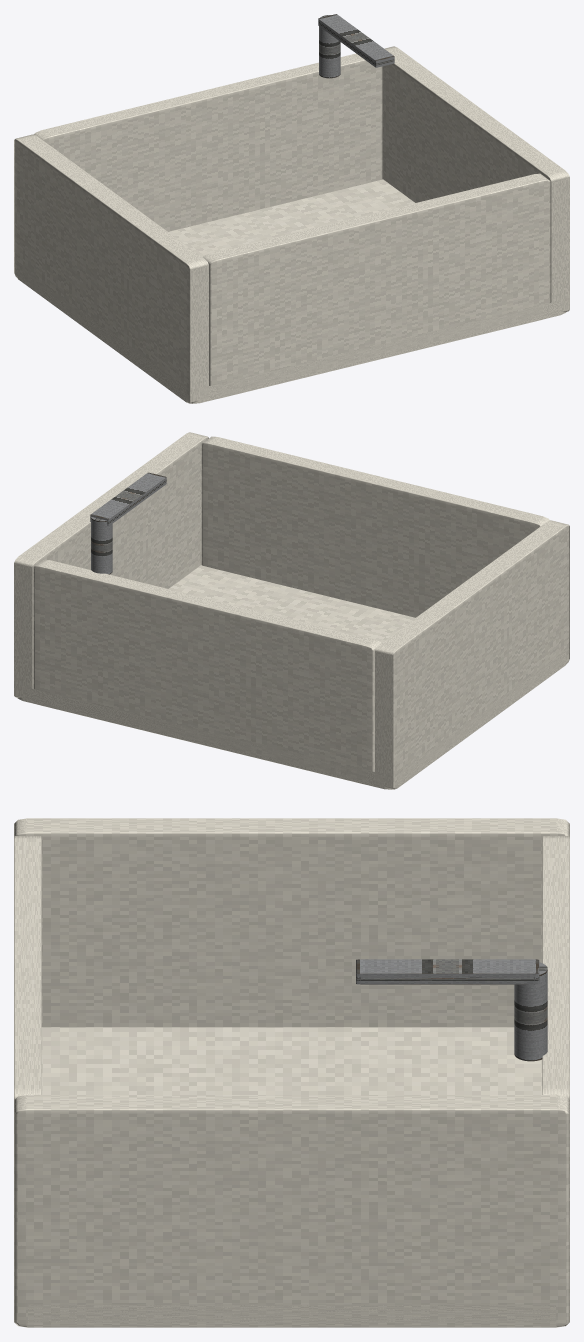
File: basin.glb
The picture shows the model from 3 angles, top to bottom: view 1: azimuth 30°, elevation 25°; view 2: azimuth 150°, elevation 25°; view 3: azimuth 270°, elevation 25°; orthographic projection. The views are drawn at different scales.
Parts seen in each view (by area): view 1: edge (×2), side (×2), bottom, spout, spout-post; view 2: edge (×2), side (×2), bottom, spout, spout-post; view 3: side (×2), bottom, edge (×2), spout, spout-post.
Part boxes in pixels (x1=…): edge (×2): x1=34, y1=53, x2=551, y2=398; side (×2): x1=14, y1=46, x2=569, y2=403; bottom: x1=18, y1=179, x2=566, y2=403; spout: x1=318, y1=14, x2=394, y2=67; spout-post: x1=319, y1=15, x2=340, y2=78; edge (×2): x1=32, y1=436, x2=549, y2=784; side (×2): x1=14, y1=432, x2=569, y2=789; bottom: x1=17, y1=565, x2=565, y2=789; spout: x1=90, y1=472, x2=166, y2=526; spout-post: x1=91, y1=517, x2=112, y2=574; side (×2): x1=14, y1=818, x2=569, y2=1327; bottom: x1=27, y1=1027, x2=556, y2=1327; edge (×2): x1=14, y1=836, x2=569, y2=1099; spout: x1=356, y1=959, x2=539, y2=984; spout-post: x1=514, y1=962, x2=547, y2=1061.
Bounding box in the file's own units: 0.57 × 0.277 × 0.46.
Materials: 2 (2 with a texture image).
